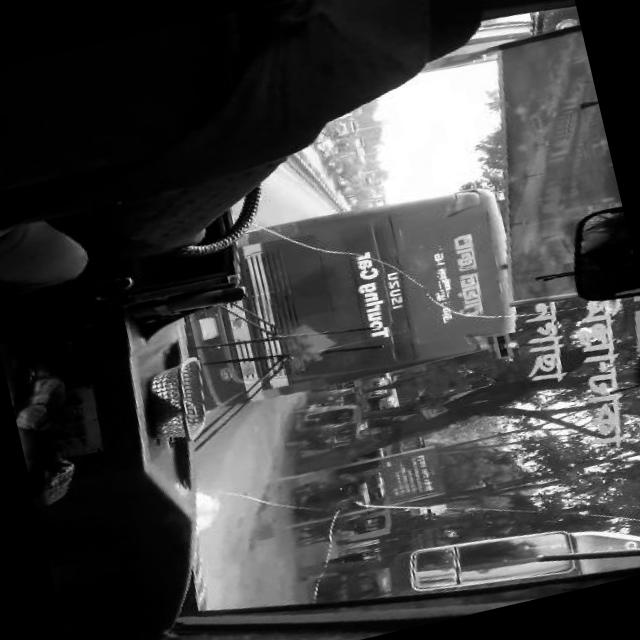bus: (176, 179, 524, 416), (334, 135, 366, 164)
motorcycle: (280, 394, 370, 458), (292, 476, 373, 534), (312, 548, 385, 608), (304, 381, 362, 412)
truck: (330, 119, 359, 141)
